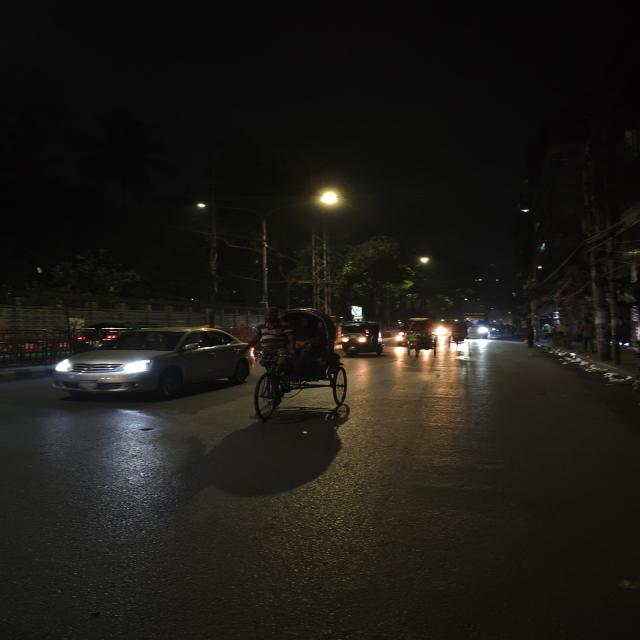bus: (462, 312, 490, 339)
car: (46, 324, 255, 406)
cng: (335, 319, 388, 357)
pedestrian: (576, 318, 599, 352)
rickshaw: (247, 303, 355, 429), (401, 316, 440, 356), (401, 318, 440, 357), (446, 318, 473, 346)
